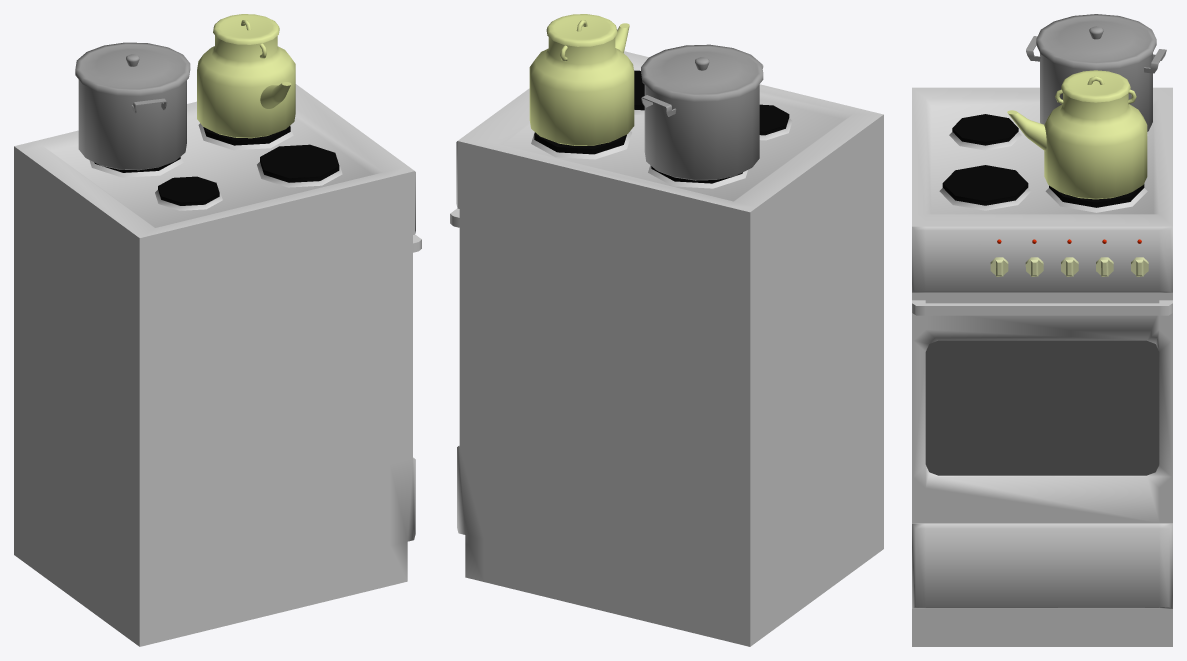
Rendered from Stove.fbx.
The picture shows the model from 3 angles, left to right: view 1: azimuth 30°, elevation 25°; view 2: azimuth 150°, elevation 25°; view 3: azimuth 270°, elevation 25°; orthographic projection. The views are drawn at different scales.
Visible parts, largest first — view 1: Stove, Pot, TeaPot; view 2: Stove, Pot, TeaPot; view 3: Stove, TeaPot, Pot.
Part boxes in pixels (x1,y1,x2,y2): Stove: (14, 84, 421, 646); Pot: (75, 42, 190, 170); TeaPot: (197, 14, 295, 138); Stove: (450, 51, 883, 646); Pot: (641, 44, 763, 180); TeaPot: (529, 14, 634, 145); Stove: (912, 87, 1172, 646); TeaPot: (1007, 70, 1147, 199); Pot: (1026, 14, 1166, 131).
Size of the model in its own units: 55.75 by 96.32 by 42.64.
